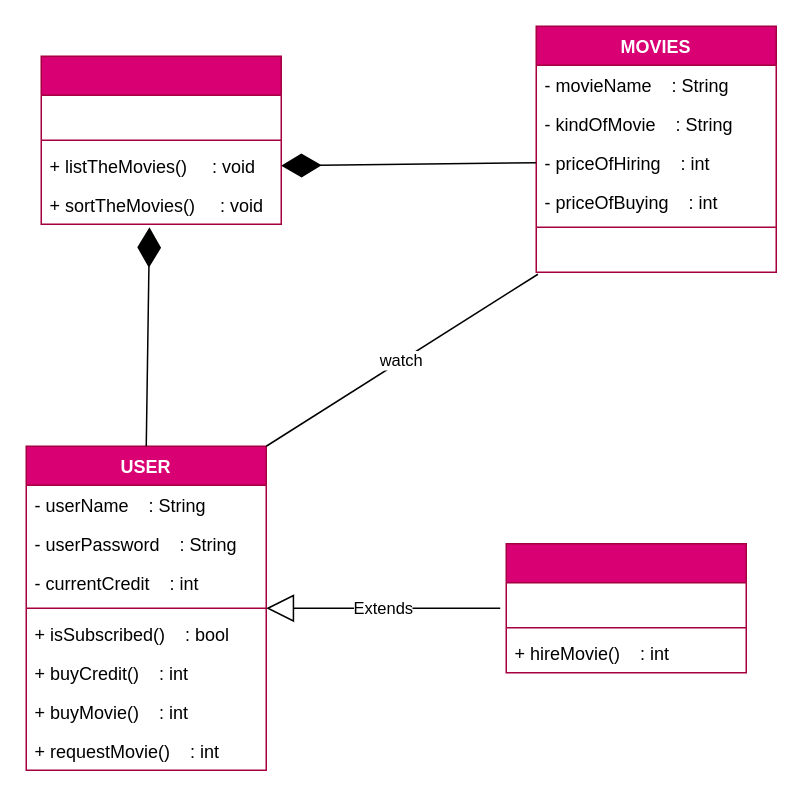
Some shapes in this 803 by 801 pixel diagram are drawn without their labels. Each missing label, with the box of its shape:
MOVIE SITE: (40, 55, 281, 224)
SUBSCRIBER: (505, 542, 746, 673)
